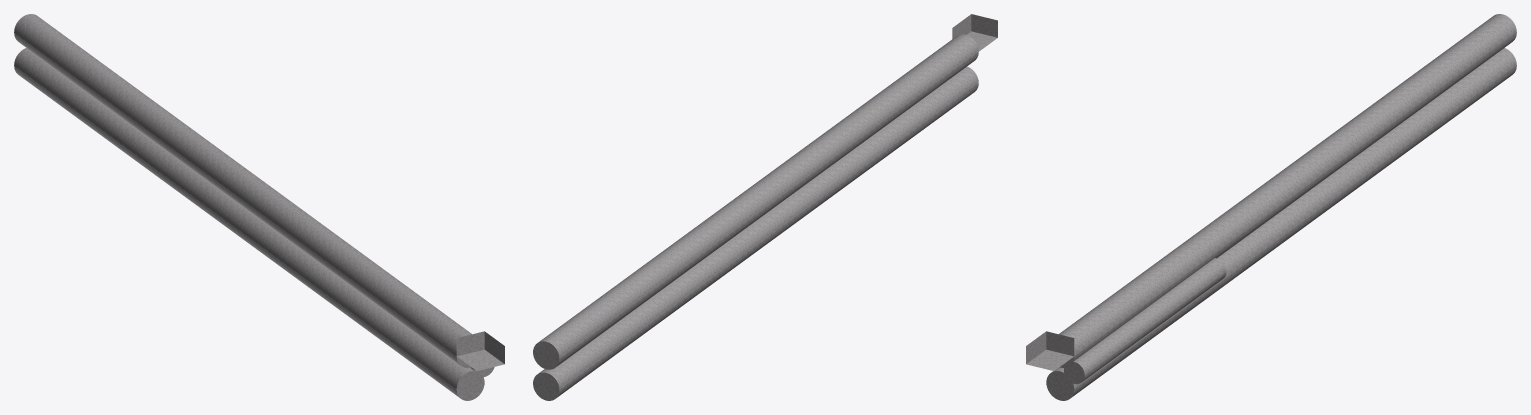
3 views of the same model, side by side, from view 1: azimuth 30°, elevation 25°; view 2: azimuth 150°, elevation 25°; view 3: azimuth 330°, elevation 25° (orthographic). The views are drawn at different scales.
Visible parts, largest first — view 1: 0_0_2_1_3_2_3_2_2; view 2: 0_0_2_1_3_2_3_2_2; view 3: 0_0_2_1_3_2_3_2_2.
Boxes of the visible parts, x1=… form: 0_0_2_1_3_2_3_2_2: x1=14, y1=14, x2=504, y2=400; 0_0_2_1_3_2_3_2_2: x1=533, y1=14, x2=997, y2=400; 0_0_2_1_3_2_3_2_2: x1=1026, y1=14, x2=1516, y2=400.
Bounding box in the file's own units: 1.1 × 1.8 × 22.9.
Materials: 4 (4 with a texture image).
